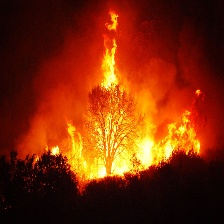fire: (39, 113, 208, 177), (100, 12, 125, 102)
smoke: (18, 9, 217, 119)
